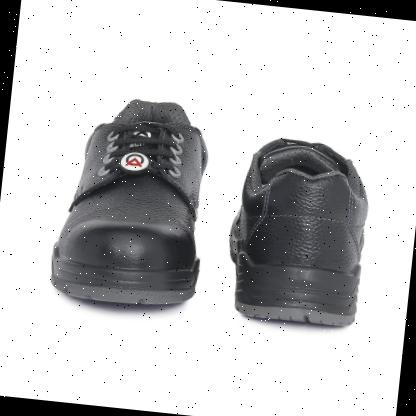bota: (44, 88, 218, 315), (215, 126, 381, 336)
